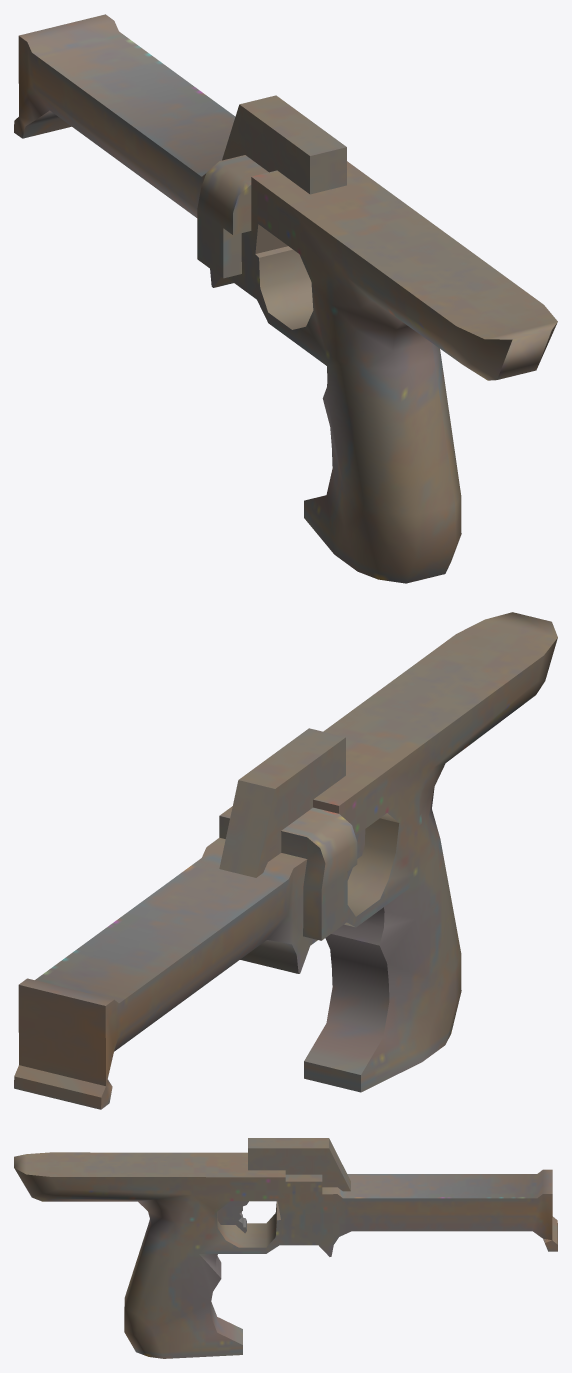
The model's file is grip3.obj.
3 renders of one model, top to bottom at view 1: azimuth 30°, elevation 25°; view 2: azimuth 150°, elevation 25°; view 3: azimuth 270°, elevation 25°, orthographic. The views are drawn at different scales.
Parts seen in each view (by area): view 1: grip3; view 2: grip3; view 3: grip3.
Part boxes in pixels (x1,y1,x2,y2): grip3: (14,14,557,583); grip3: (14,612,557,1109); grip3: (14,1138,557,1358).
Bounding box in the file's own units: 5.36 × 17.18 × 41.52.
